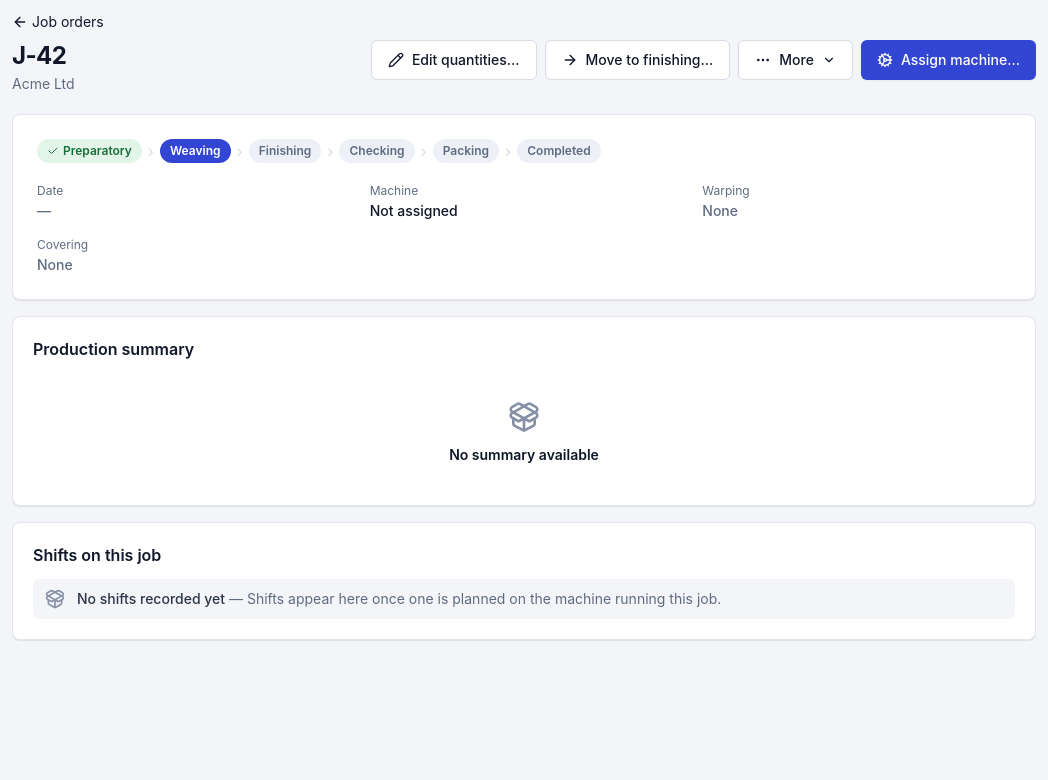
QR label, from the job detail page › offers it under More
Step 1. Click the button "More" → (796, 60), box x1=738 y1=40 x2=853 y2=80
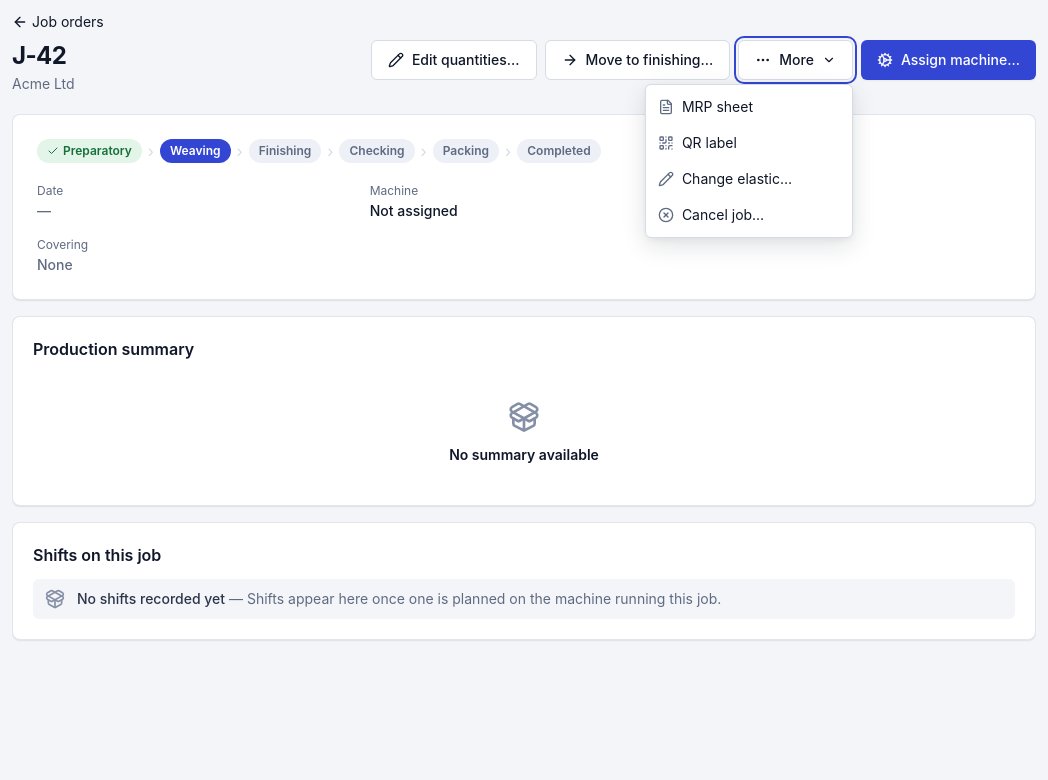
Check: the menu item "QR label" is shown, box x1=646 y1=125 x2=852 y2=161
